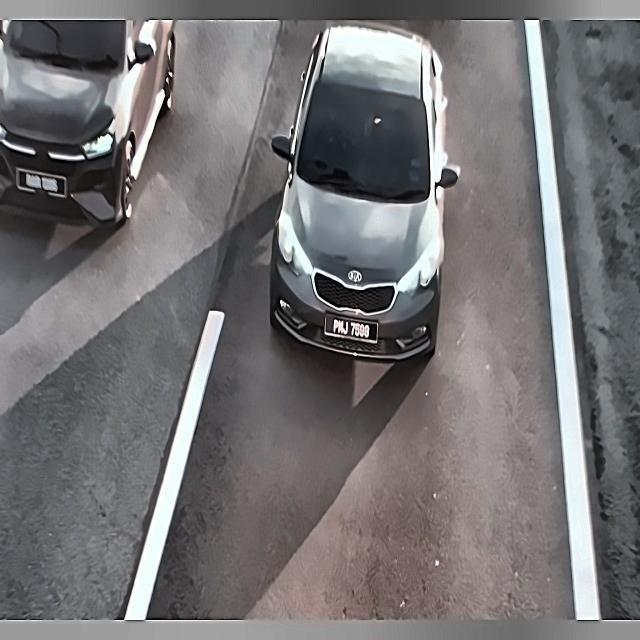car: (321, 305, 384, 354), (15, 164, 68, 206)
